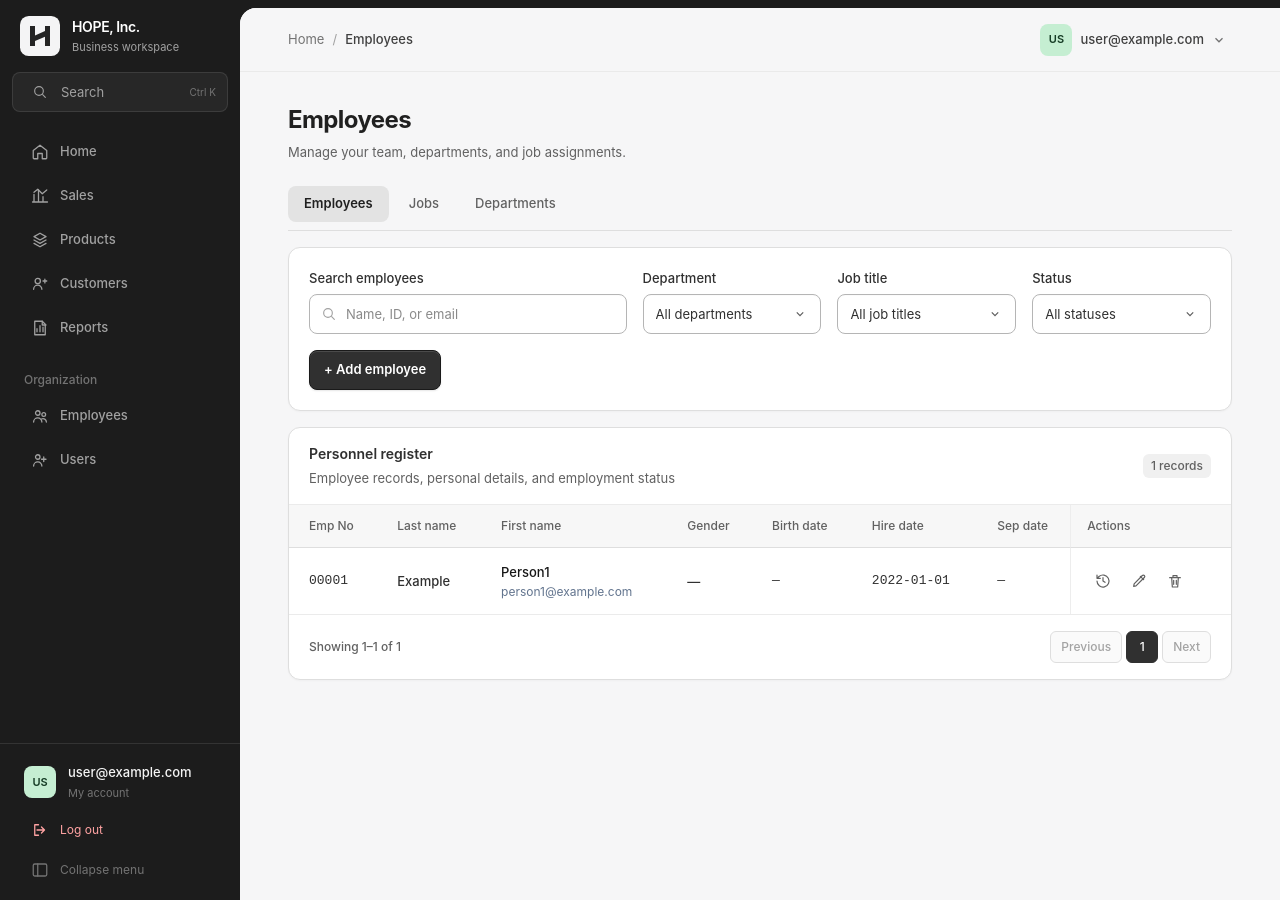
it: shows a clear archive error when an employee has active sales
This screenshot has width=1280, height=900.
Click the button named "Archive Person1 Example".
click(1175, 581)  # box [1159,565,1191,597]
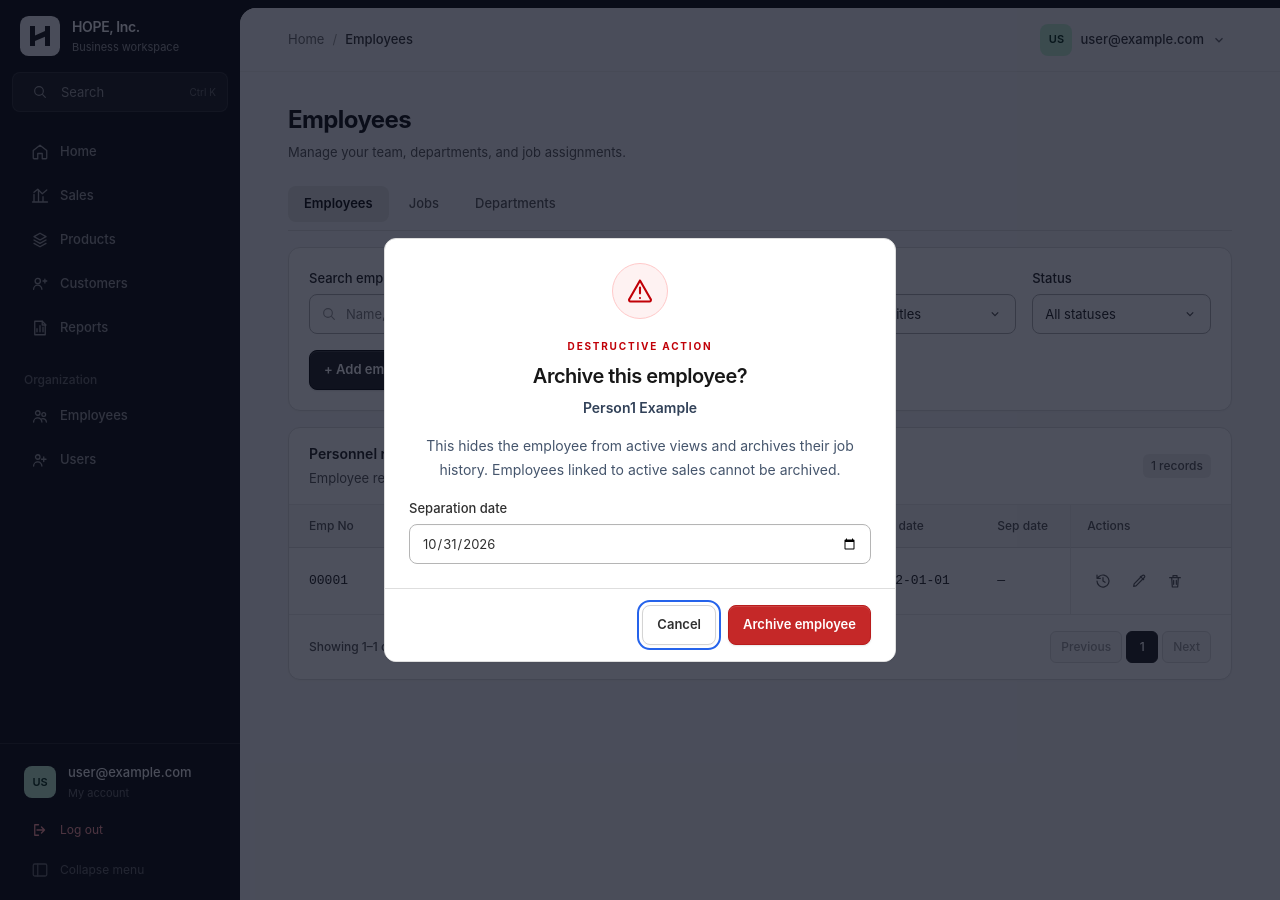
Click the button "Archive employee".
click(800, 625)  # box [728,605,871,645]
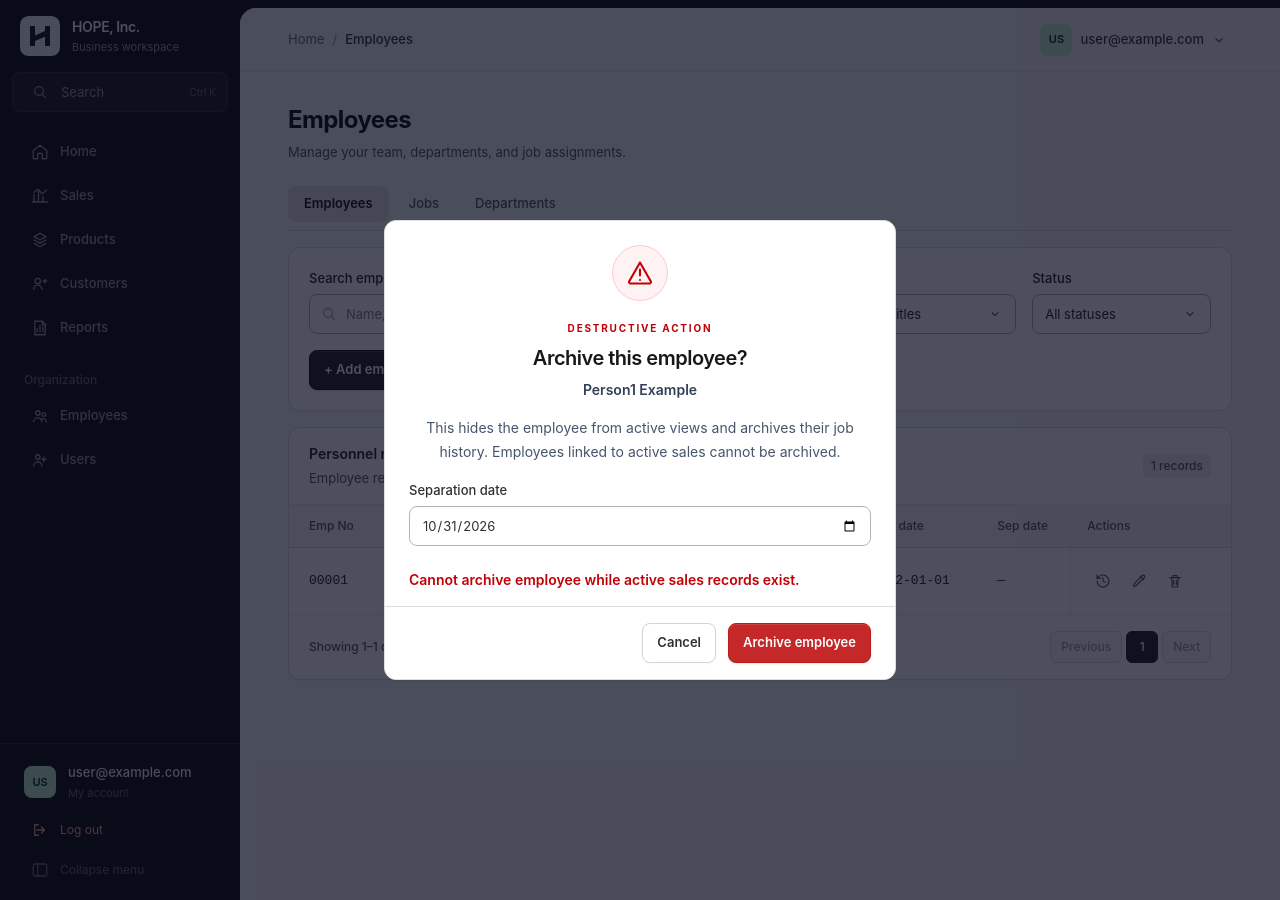
Expected: the dialog is shown, [384,220,896,680]
Expected: the message shows "active sales records", [409,571,800,588]
